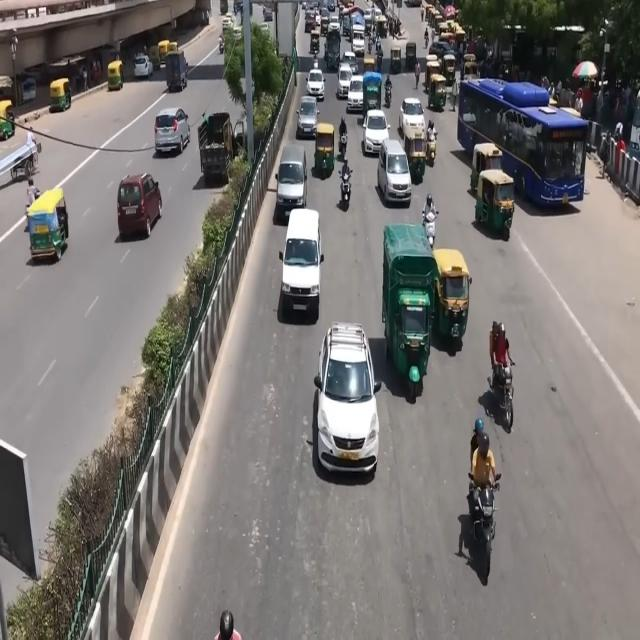auto: (382, 224, 436, 394), (431, 248, 471, 348), (26, 185, 69, 262), (474, 167, 516, 240), (470, 141, 503, 198), (404, 124, 428, 180), (314, 123, 335, 176), (166, 50, 190, 93), (49, 77, 72, 112), (428, 72, 447, 110), (0, 100, 14, 138), (107, 60, 124, 91), (363, 55, 376, 84), (157, 40, 172, 65), (149, 44, 162, 70), (168, 41, 179, 56)
bike-auto: (467, 472, 501, 578), (490, 358, 516, 432), (490, 322, 514, 388), (422, 204, 438, 251), (339, 162, 353, 208), (338, 116, 348, 156), (384, 75, 392, 107), (376, 49, 383, 74), (323, 41, 329, 64), (376, 36, 382, 55), (368, 36, 373, 54)
